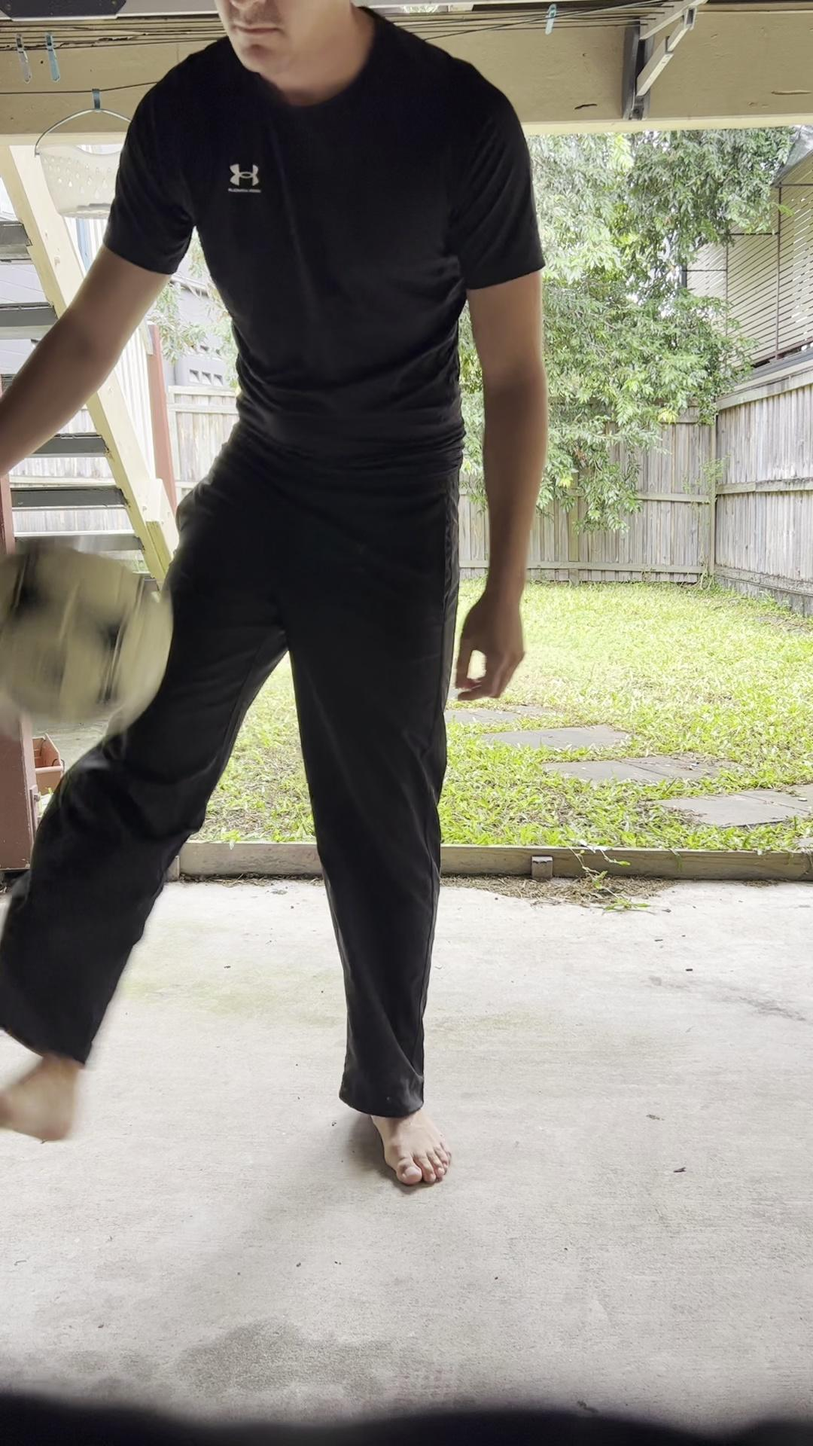ball: (0, 539, 175, 743)
foot: (0, 1053, 80, 1139), (372, 1106, 452, 1183)
person: (0, 0, 552, 1191)
